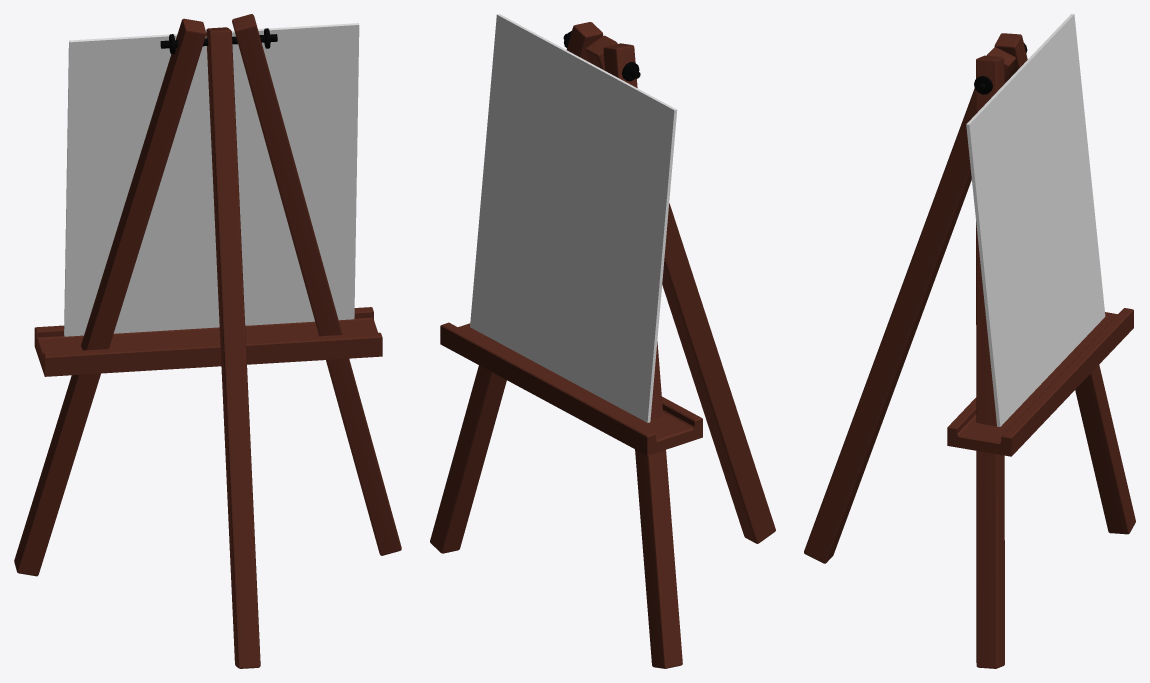
File: Art Easil.fbx
3 views of the same model, side by side, from view 1: azimuth 30°, elevation 25°; view 2: azimuth 150°, elevation 25°; view 3: azimuth 270°, elevation 25° (orthographic). The views are drawn at different scales.
Parts seen in each view (by area): view 1: Art_Easil1; view 2: Art_Easil1; view 3: Art_Easil1.
Part boxes in pixels (box(x1,y1,x2,y2)): Art_Easil1: box(14, 14, 401, 668); Art_Easil1: box(430, 14, 775, 668); Art_Easil1: box(804, 14, 1135, 668).
Bounding box in the file's own units: 301 × 513 × 283.
